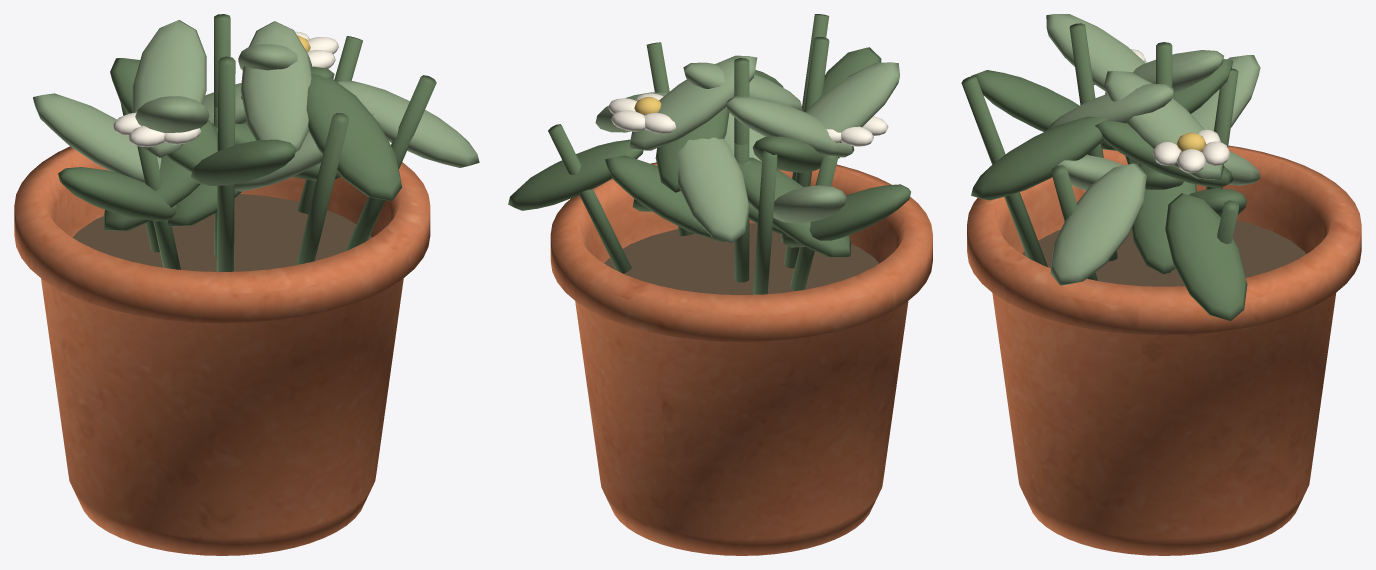
Rendered from pot_round.glb.
3 renders of one model, left to right at view 1: azimuth 30°, elevation 25°; view 2: azimuth 150°, elevation 25°; view 3: azimuth 270°, elevation 25°, orthographic. The views are drawn at different scales.
Parts seen in each view (by area): view 1: Thrown terracotta pot.001, Soil inside rim.001, Broad opaque leaf.024, Broad opaque leaf.034, Broad opaque leaf.025, Broad opaque leaf.021, Broad opaque leaf.030, Broad opaque leaf.027, Broad opaque leaf.023, Plant stem.017, Plant stem.012, Plant stem.015 (+12 smaller); view 2: Thrown terracotta pot.001, Soil inside rim.001, Broad opaque leaf.022, Broad opaque leaf.026, Broad opaque leaf.036, Broad opaque leaf.033, Broad opaque leaf.025, Broad opaque leaf.035, Broad opaque leaf.027, Broad opaque leaf.019, Plant stem.011, Plant stem.018 (+17 smaller); view 3: Thrown terracotta pot.001, Broad opaque leaf.030, Broad opaque leaf.036, Broad opaque leaf.024, Soil inside rim.001, Broad opaque leaf.026, Broad opaque leaf.023, Broad opaque leaf.033, Broad opaque leaf.020, Plant stem.012, Broad opaque leaf.034, Broad opaque leaf.032 (+15 smaller).
Part boxes in pixels (left/top/right/bottom): Thrown terracotta pot.001: left=14, top=146, right=430, bottom=555; Soil inside rim.001: left=72, top=194, right=371, bottom=271; Broad opaque leaf.024: left=306, top=73, right=401, bottom=200; Broad opaque leaf.034: left=241, top=21, right=311, bottom=151; Broad opaque leaf.025: left=132, top=20, right=206, bottom=157; Broad opaque leaf.021: left=33, top=93, right=161, bottom=182; Broad opaque leaf.030: left=338, top=80, right=479, bottom=167; Broad opaque leaf.027: left=58, top=167, right=176, bottom=221; Broad opaque leaf.023: left=191, top=139, right=296, bottom=185; Plant stem.017: left=216, top=56, right=235, bottom=271; Plant stem.012: left=296, top=113, right=348, bottom=265; Plant stem.015: left=344, top=75, right=436, bottom=251; Thrown terracotta pot.001: left=550, top=162, right=932, bottom=555; Soil inside rim.001: left=604, top=223, right=878, bottom=294; Broad opaque leaf.022: left=677, top=137, right=749, bottom=242; Broad opaque leaf.026: left=629, top=55, right=757, bottom=150; Broad opaque leaf.036: left=508, top=139, right=643, bottom=210; Broad opaque leaf.033: left=805, top=62, right=899, bottom=142; Broad opaque leaf.025: left=726, top=96, right=854, bottom=157; Broad opaque leaf.035: left=605, top=155, right=741, bottom=241; Broad opaque leaf.027: left=781, top=184, right=910, bottom=247; Broad opaque leaf.019: left=738, top=157, right=850, bottom=257; Plant stem.011: left=752, top=150, right=777, bottom=294; Plant stem.018: left=548, top=124, right=631, bottom=273; Thrown terracotta pot.001: left=967, top=145, right=1361, bottom=555; Broad opaque leaf.030: left=1050, top=163, right=1146, bottom=285; Broad opaque leaf.036: left=1165, top=193, right=1247, bottom=320; Broad opaque leaf.024: left=971, top=116, right=1107, bottom=200; Soil inside rim.001: left=1022, top=220, right=1305, bottom=286; Broad opaque leaf.026: left=1104, top=71, right=1224, bottom=179; Broad opaque leaf.023: left=971, top=70, right=1102, bottom=144; Broad opaque leaf.033: left=1046, top=14, right=1145, bottom=91; Broad opaque leaf.020: left=1132, top=164, right=1197, bottom=274; Plant stem.012: left=961, top=76, right=1047, bottom=266; Broad opaque leaf.034: left=1047, top=84, right=1173, bottom=130; Broad opaque leaf.032: left=1095, top=120, right=1233, bottom=187.
Size of the model in its own units: 0.643 by 0.7368 by 0.5882.
6 materials, 1 textured.
